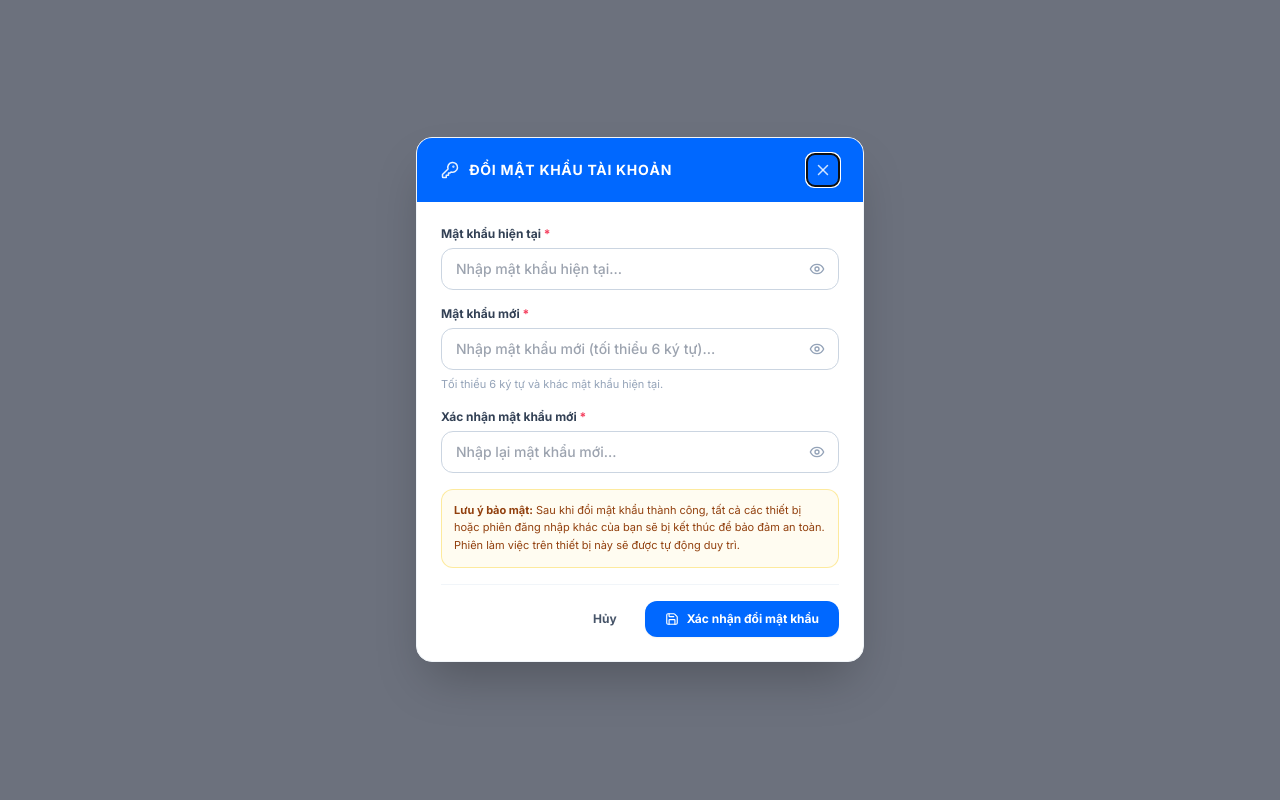
Test: NCL-01-CN-006: Đổi mật khẩu và cập nhật hồ sơ cá nhân › NCL-01-CN-006-TC-02: Dữ liệu đổi mật khẩu không hợp lệ › shows validation error when new password is less than 6 characters
The width and height of the screenshot is (1280, 800).
Type "OldPassword123" into the password field with placeholder "Nhập mật khẩu hiện tại..." at (640, 269), box [441,248,839,290]
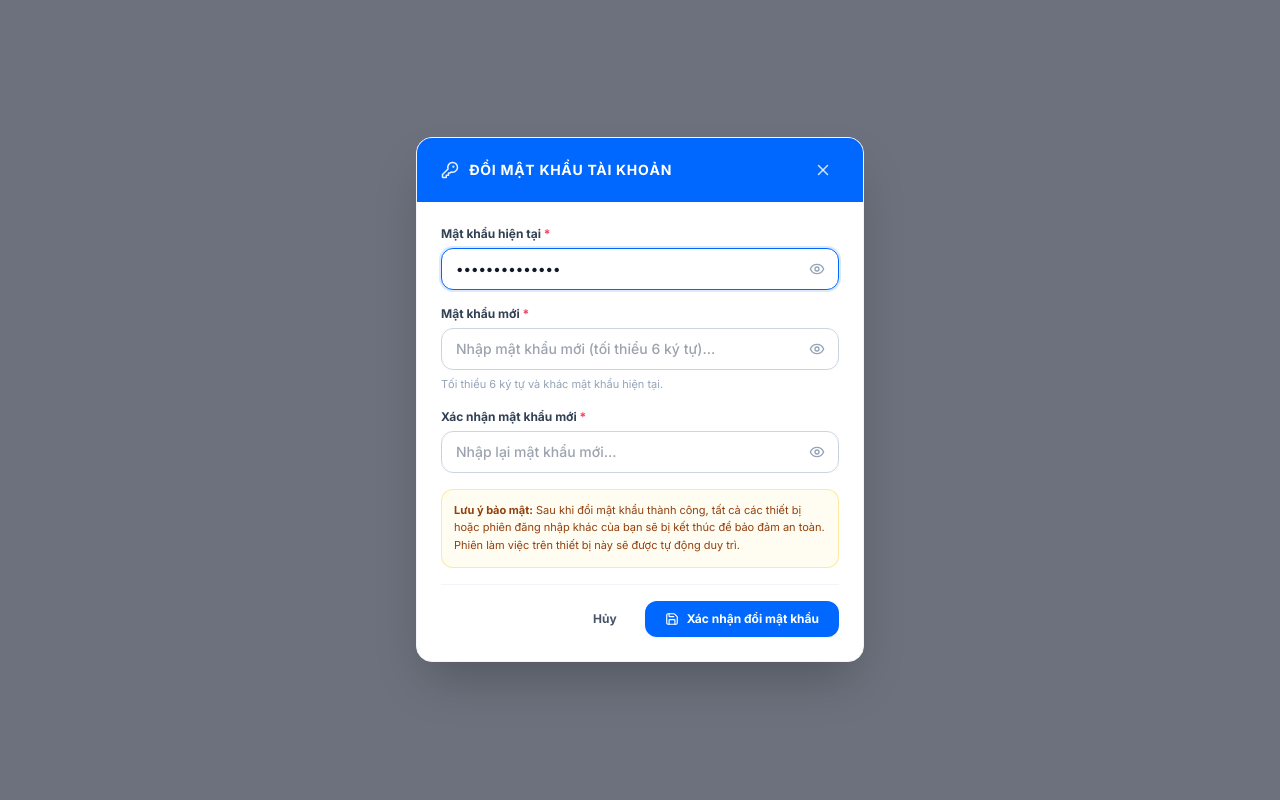
Type "12345" into the password field with placeholder "Nhập mật khẩu mới (tối thiểu 6 ký tự)..." at (640, 349), box [441,328,839,370]
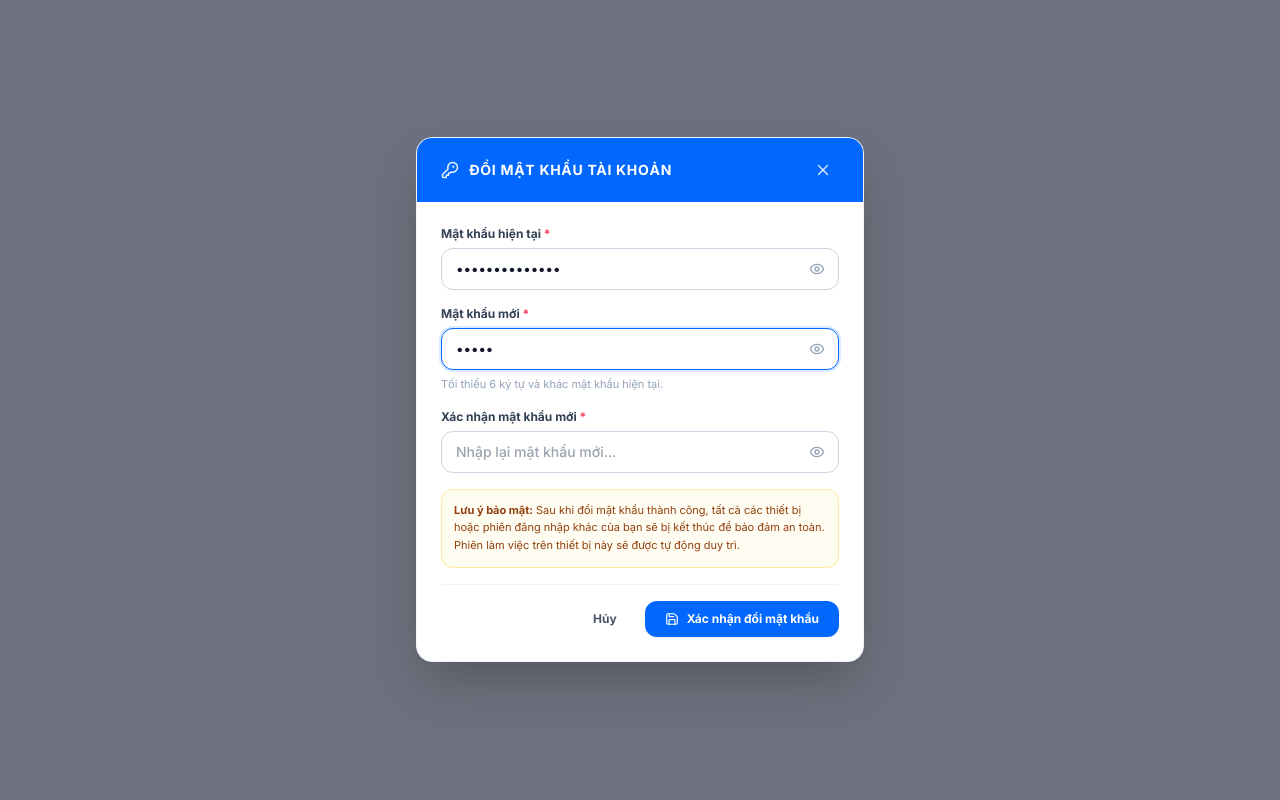
Type "12345" into the password field with placeholder "Nhập lại mật khẩu mới..." at (640, 452), box [441,431,839,473]
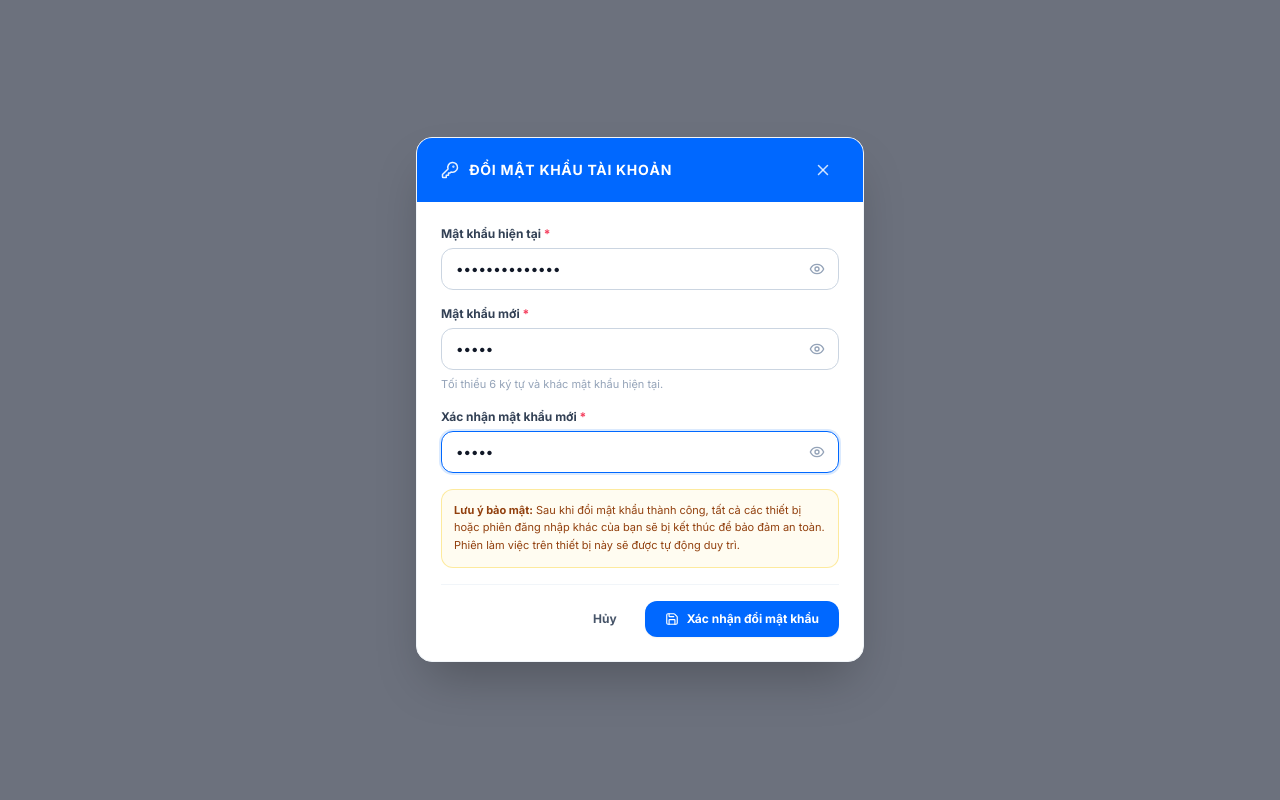
Click the button "Xác nhận đổi mật khẩu" at (742, 620), box [645,602,839,638]
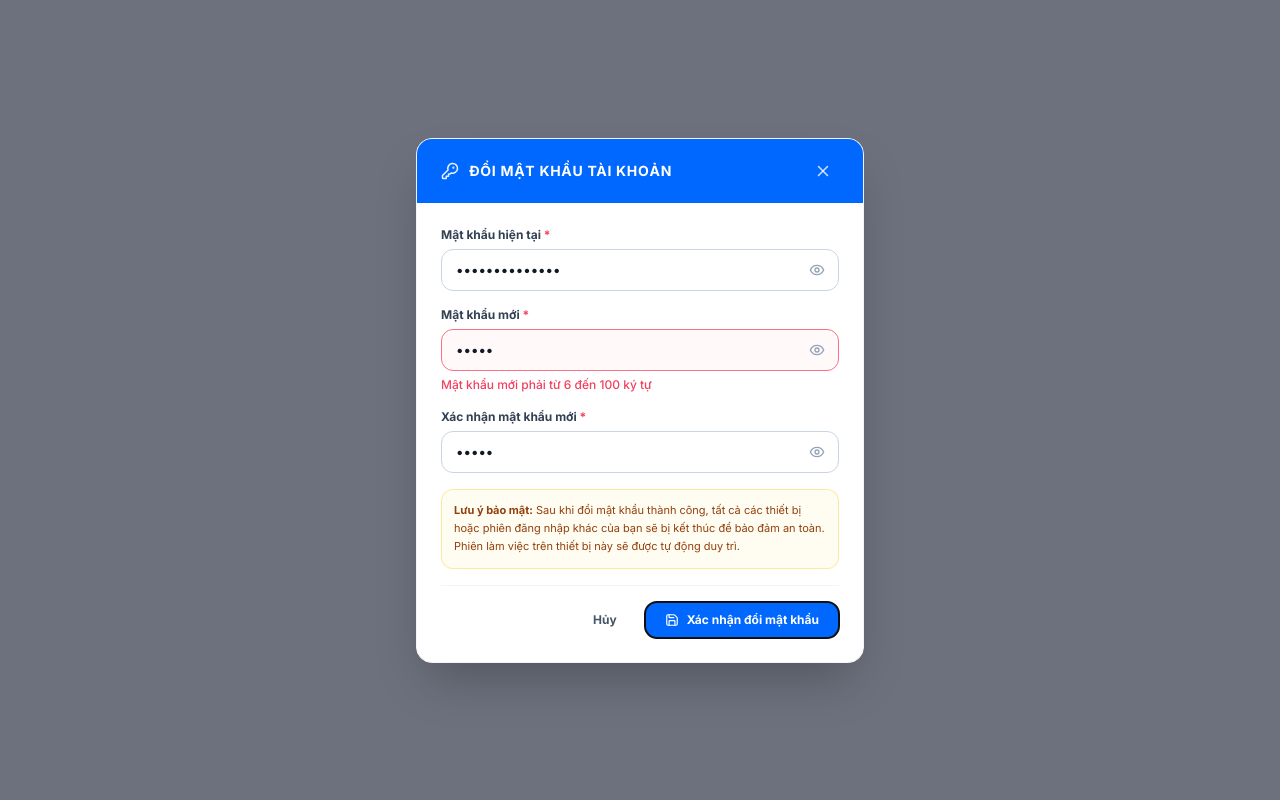
Now the text "Mật khẩu mới phải từ 6 đến 100 ký tự" is shown, box [441,377,652,392]
